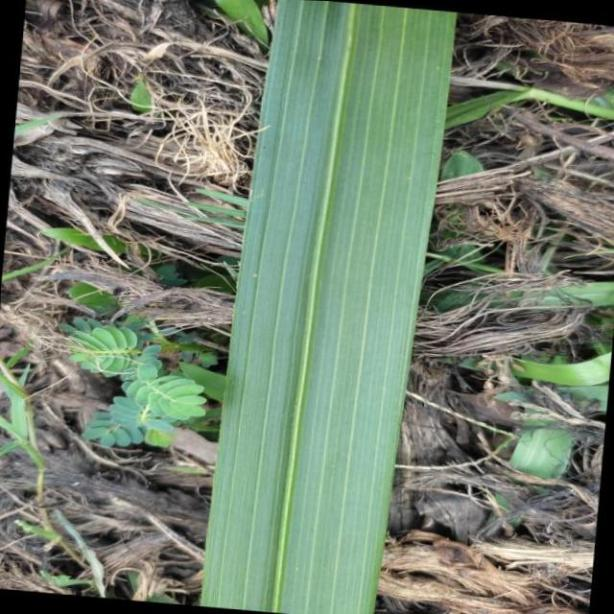Healthy: (198, 1, 455, 614)
